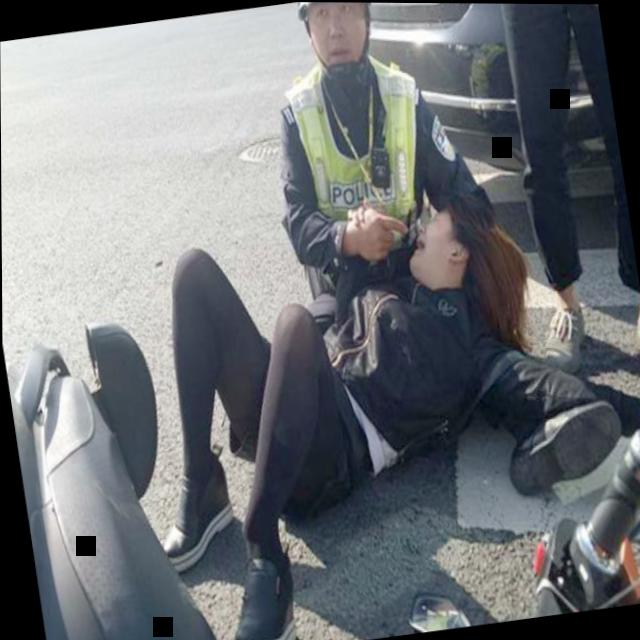Fall-Detected: (59, 136, 640, 640)
